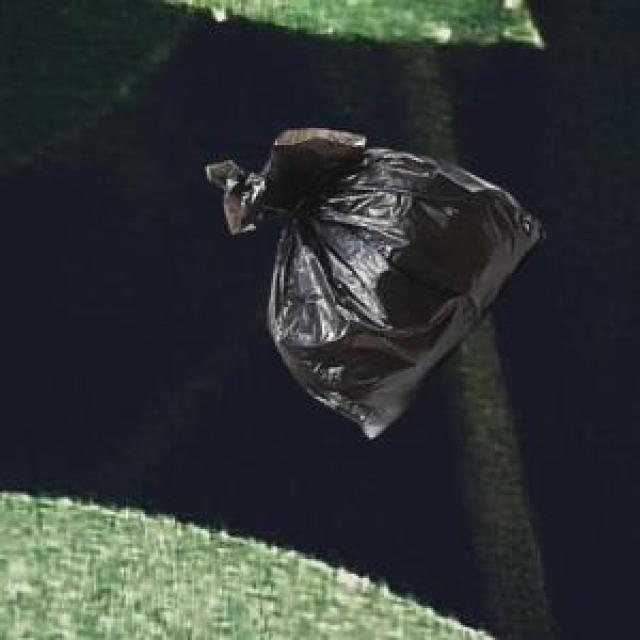Trashbag: (202, 142, 520, 430)
